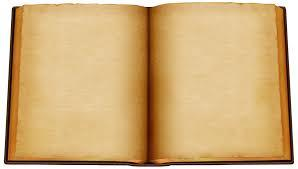Paper: (5, 0, 298, 169)
